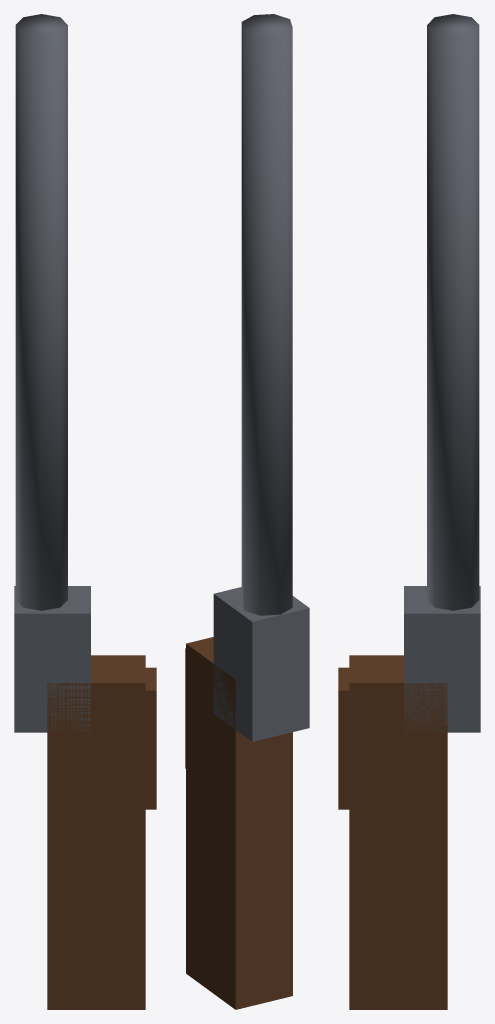
File: boomstick.glb
The picture shows the model from 3 angles, left to right: view 1: azimuth 90°, elevation 25°; view 2: azimuth 210°, elevation 25°; view 3: azimuth 270°, elevation 25°; orthographic projection.
Visible parts, largest first — view 1: boomstick_v0; view 2: boomstick_v0; view 3: boomstick_v0.
Boxes of the visible parts, left/top/right/bottom form: boomstick_v0: left=14, top=14, right=156, bottom=1009; boomstick_v0: left=185, top=14, right=309, bottom=1009; boomstick_v0: left=338, top=14, right=480, bottom=1009.
Bounding box in the file's own units: 0.06 × 0.98 × 0.13.
